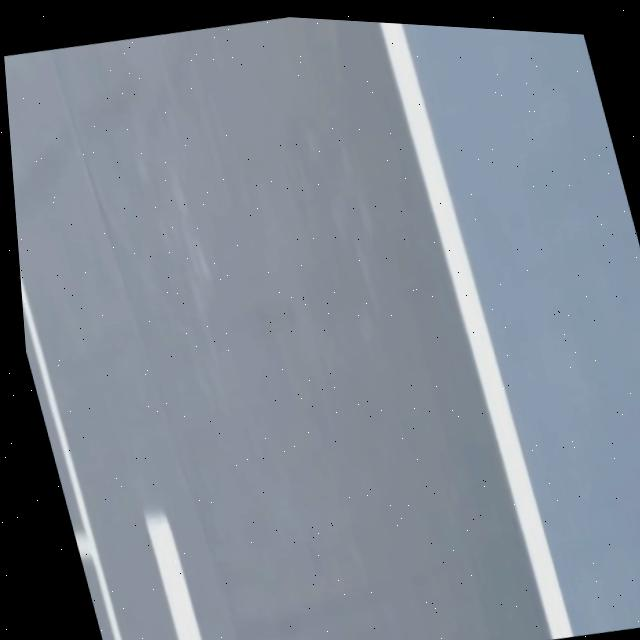center: (146, 514, 203, 640)
left: (381, 23, 574, 640)
